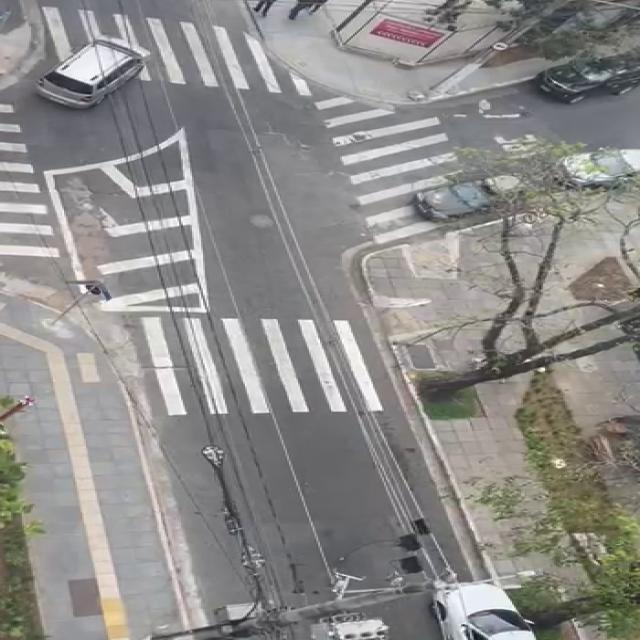car: (30, 40, 144, 110), (412, 169, 552, 224), (425, 578, 539, 640), (532, 54, 640, 105), (556, 148, 640, 191)
